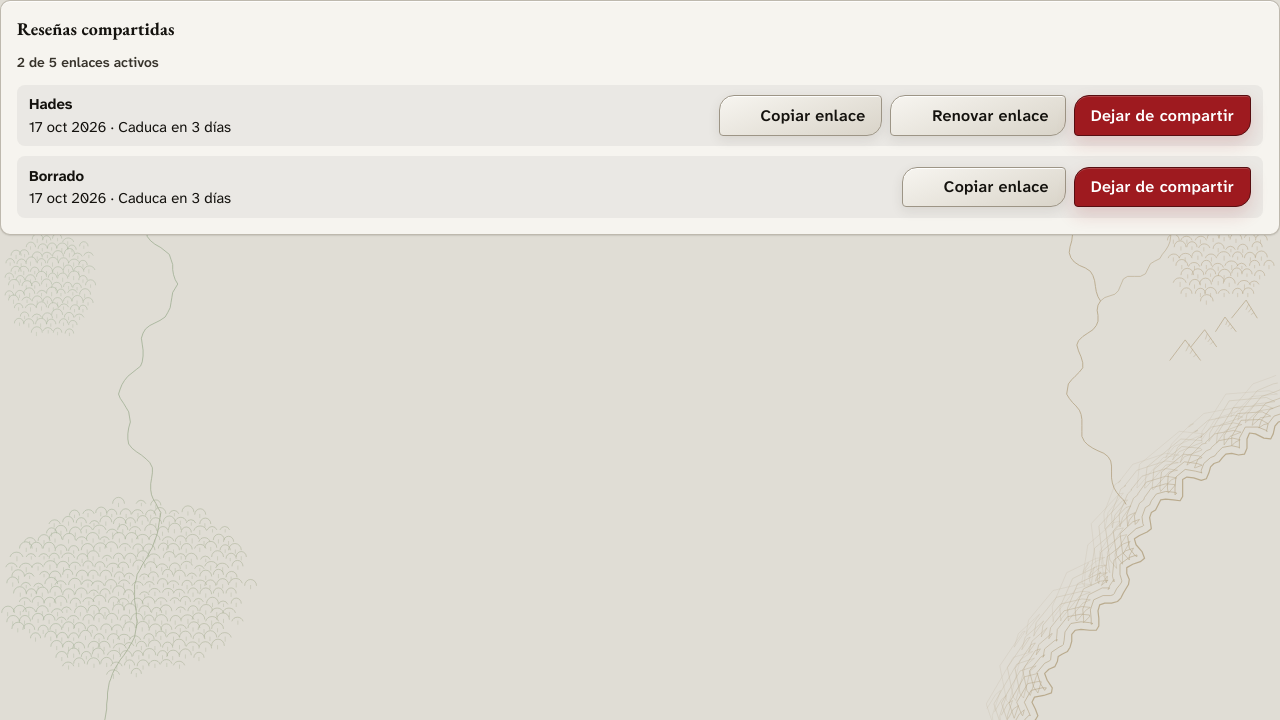
Test case: la lista de reseñas compartidas de Ajustes › renueva con el texto de la biblioteca y lo acusa
Click the button "Renovar enlace" at (978, 116), box x1=890 y1=95 x2=1066 y2=136
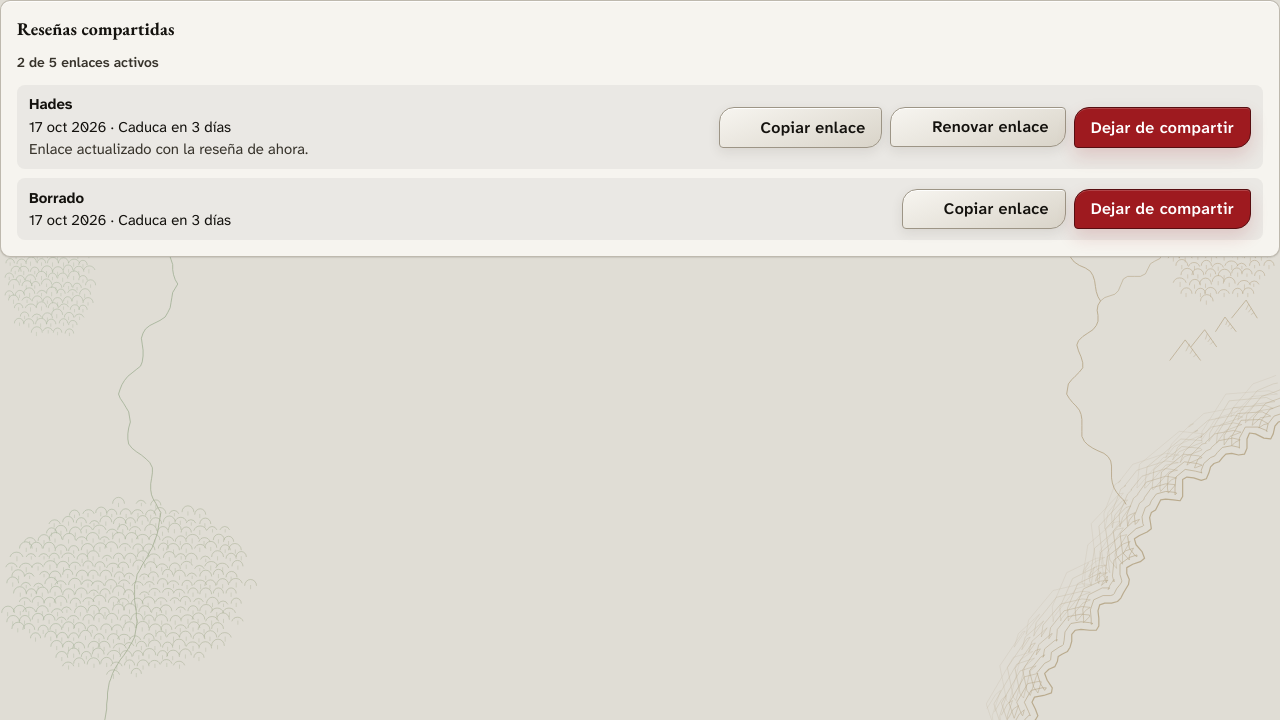
Expected: the message shows "Enlace actualizado", x1=29 y1=139 x2=308 y2=159
